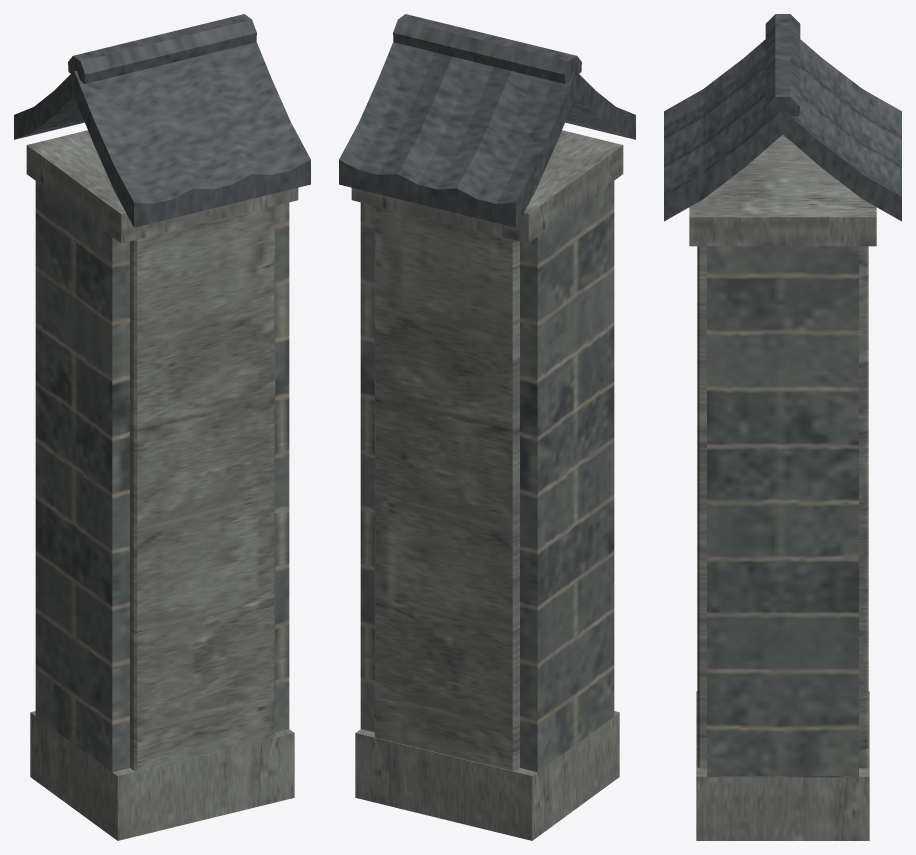
Rendered from WallEnd_LOD0.fbx.
The picture shows the model from 3 angles, left to right: view 1: azimuth 30°, elevation 25°; view 2: azimuth 150°, elevation 25°; view 3: azimuth 270°, elevation 25°; orthographic projection.
Parts seen in each view (by area): view 1: WallEnd; view 2: WallEnd; view 3: WallEnd.
Boxes of the visible parts, x1=… form: WallEnd: x1=14, y1=14, x2=310, y2=840; WallEnd: x1=339, y1=14, x2=635, y2=840; WallEnd: x1=664, y1=14, x2=901, y2=840.
Bounding box in the file's own units: 0.4 × 1.62 × 0.47.
1 material, 1 textured.
